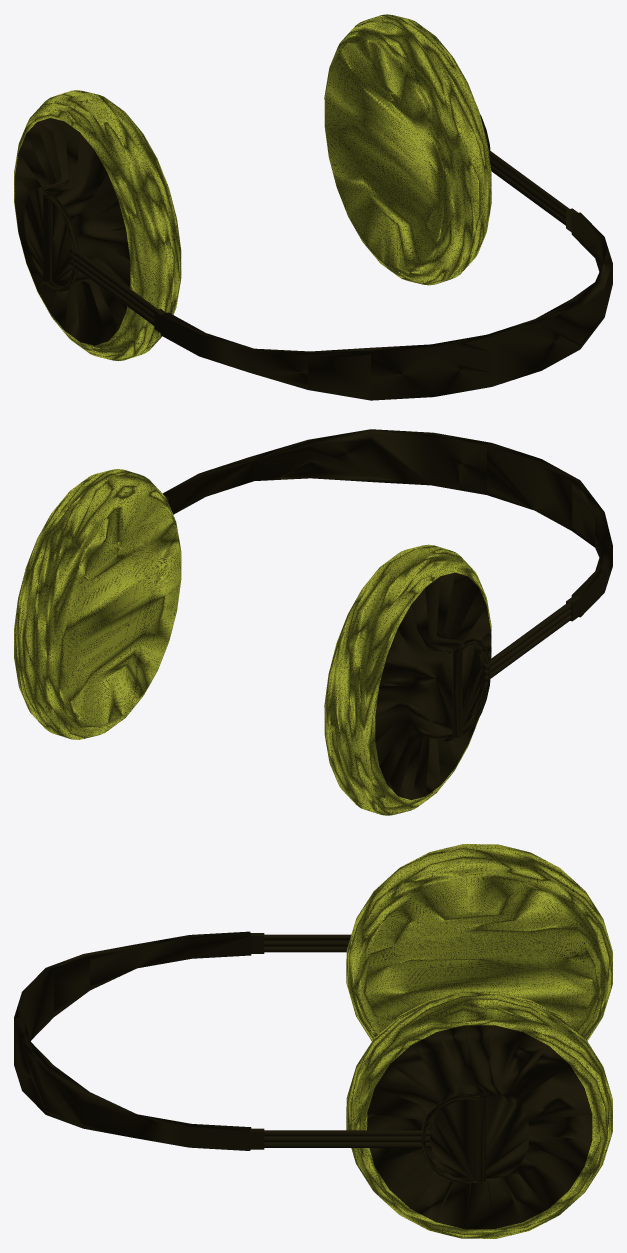
The model's file is model_align.obj.
The picture shows the model from 3 angles, top to bottom: view 1: azimuth 30°, elevation 25°; view 2: azimuth 150°, elevation 25°; view 3: azimuth 270°, elevation 25°; orthographic projection. The views are drawn at different scales.
Bounding box in the file's own units: 0.1154 × 0.0652 × 0.1464.
5 materials, 5 textured.
